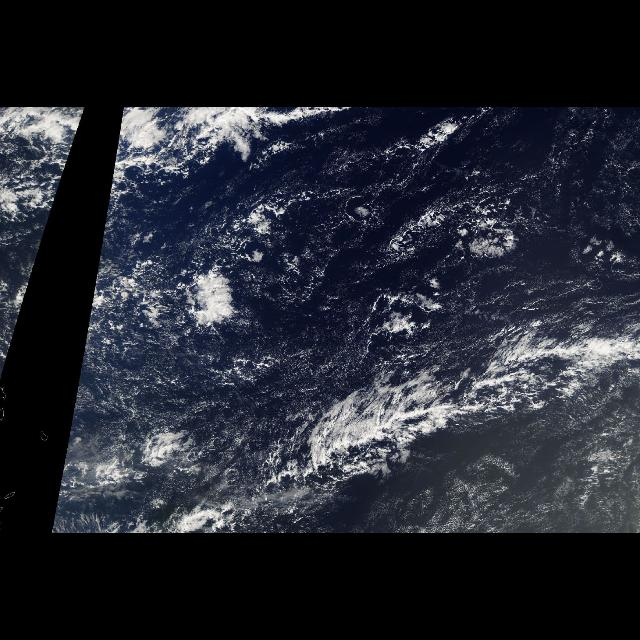Fish: (88, 298, 640, 534)
Gravel: (91, 111, 631, 461)
Sugar: (52, 225, 258, 525), (430, 430, 638, 532), (4, 226, 48, 370)
